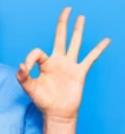left: (14, 4, 113, 113)
